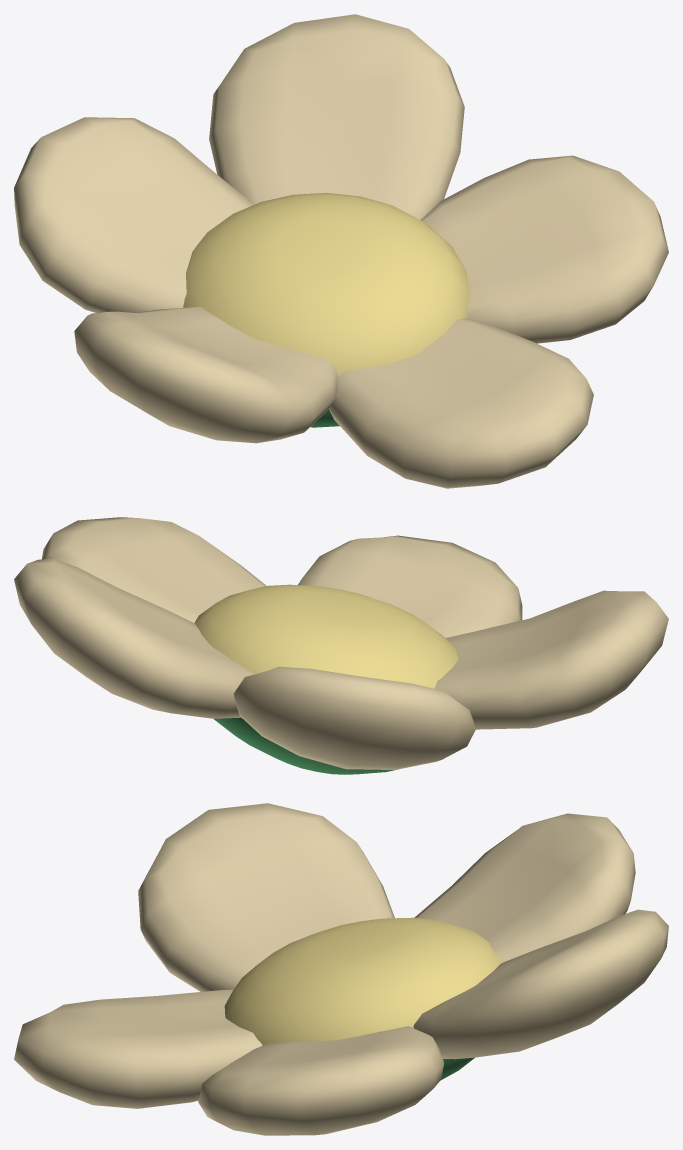
Rendered from Flowerpistil_01.dae.
3 renders of one model, top to bottom at view 1: azimuth 30°, elevation 25°; view 2: azimuth 150°, elevation 25°; view 3: azimuth 270°, elevation 25°, orthographic. The views are drawn at different scales.
Parts seen in each view (by area): view 1: Flowerpistil_01_LOD0; view 2: Flowerpistil_01_LOD0; view 3: Flowerpistil_01_LOD0.
Boxes of the visible parts, box(x1,y1,x2,y2) form: Flowerpistil_01_LOD0: box(14, 14, 668, 488); Flowerpistil_01_LOD0: box(14, 517, 668, 774); Flowerpistil_01_LOD0: box(14, 803, 668, 1135).
Size of what is drawn, in the model's own units: 1.82 by 1.82 by 0.7316.
